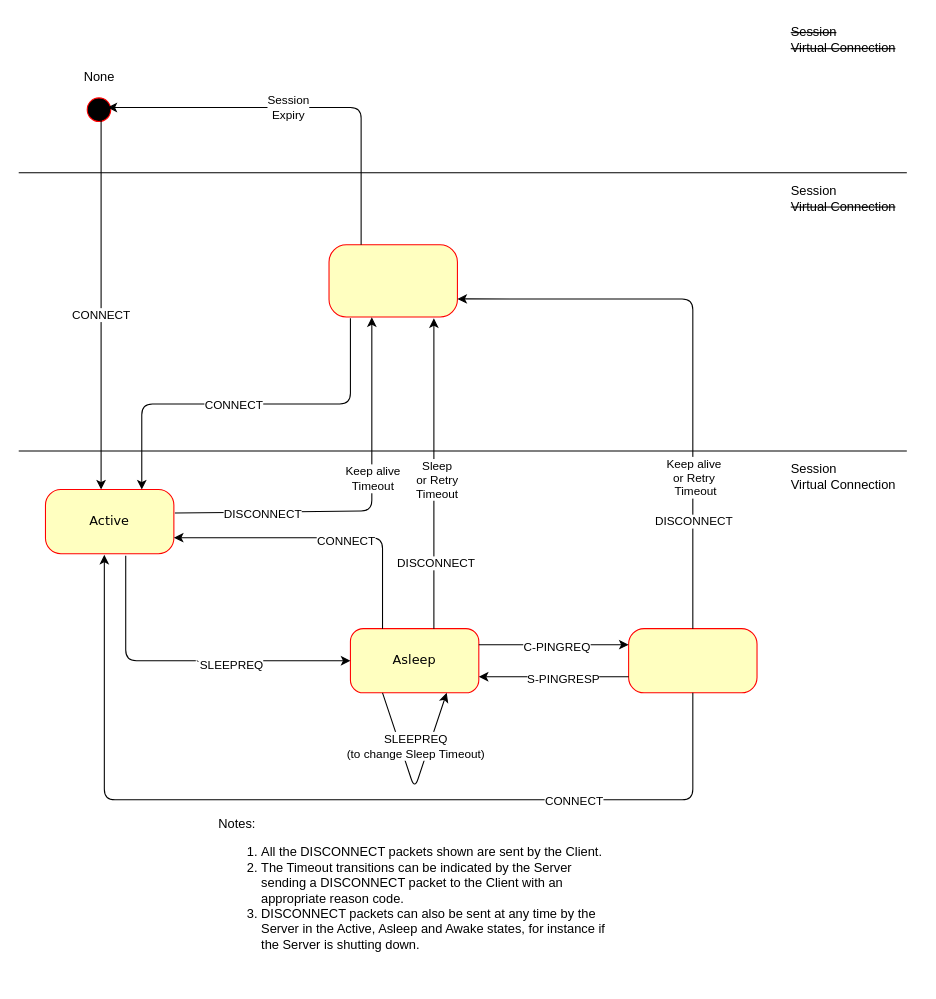
Image size: 936x999. Some labels were removed from this diagram. The box of each missing label's shape, as (x1, y1, x2, y2) in pixels:
Awake: (628, 628, 757, 693)
Disconnected: (328, 244, 457, 317)
